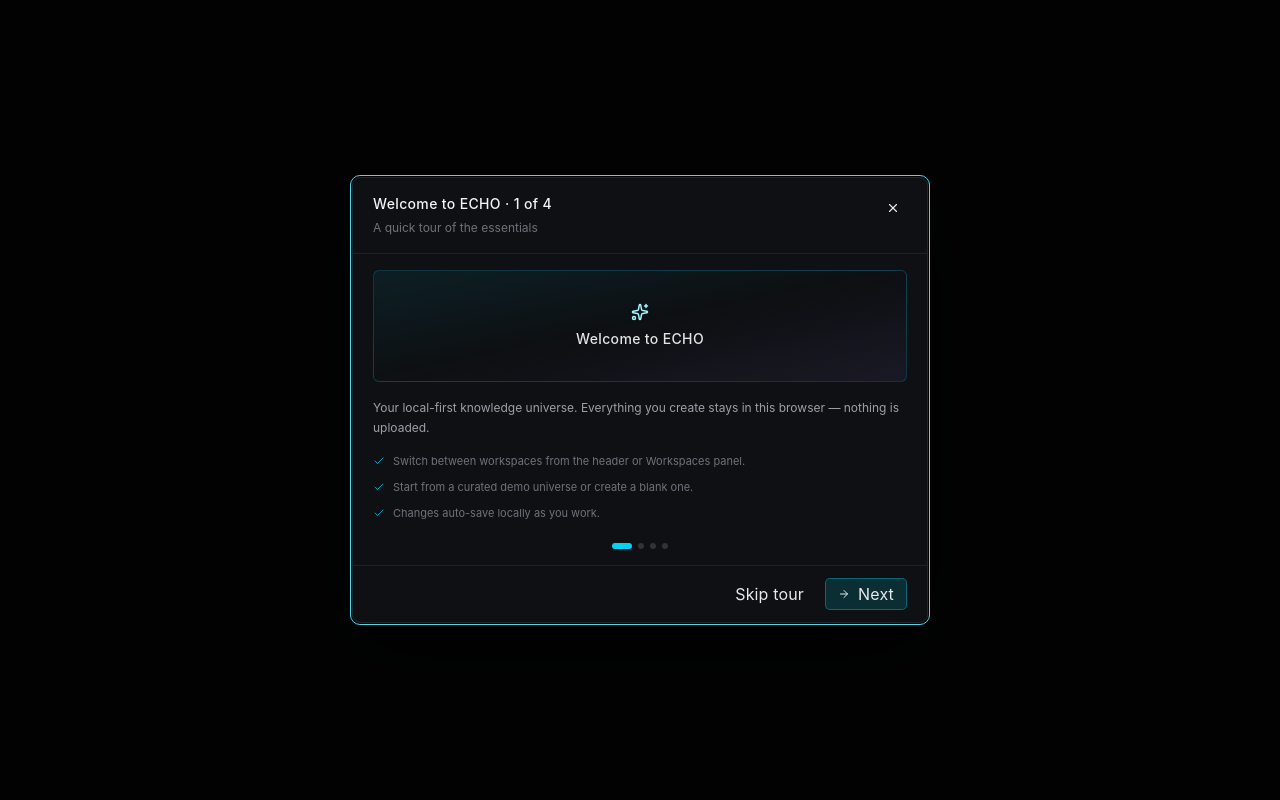
Test: Onboarding › advances step by step and supports going back
The image size is (1280, 800).
Click the button "Next".
click(866, 594)  # box [825,578,907,610]
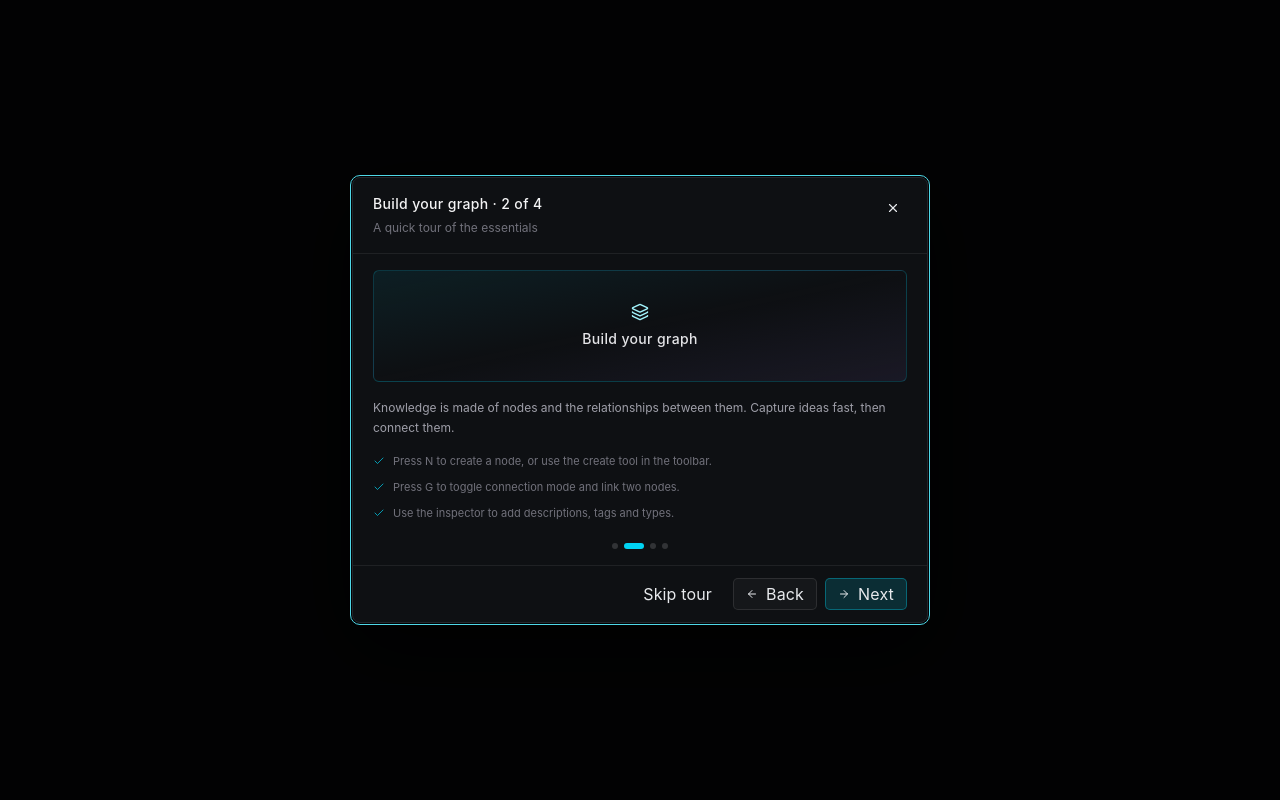
Now the dialog "Build your graph · 2 of 4" is shown, box [352,177,928,623]
Now the list item "Press N to create a node" is shown, box [393,454,712,468]
Now the button "Back" is shown
Click the button "Back".
click(775, 594)  # box [733,578,817,610]
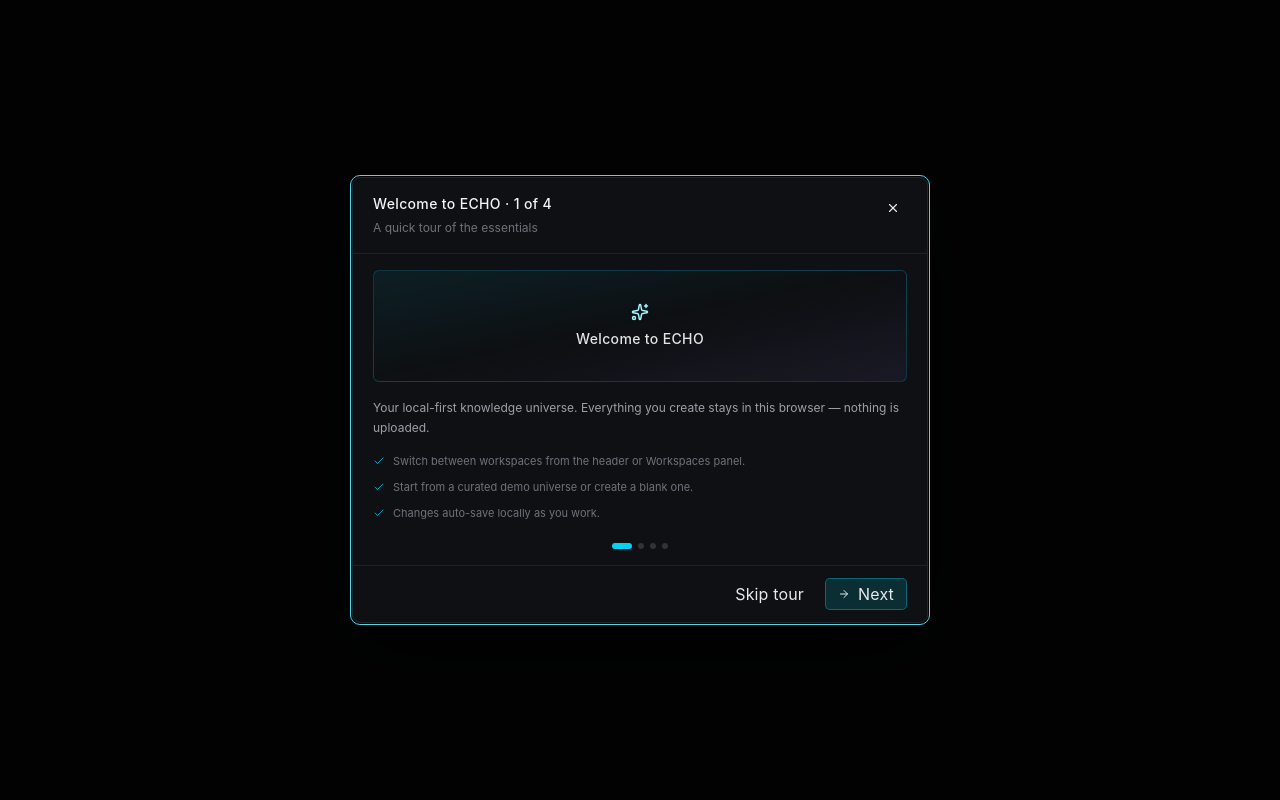
Now the dialog "Welcome to ECHO · 1 of 4" is shown, box [352,177,928,623]
